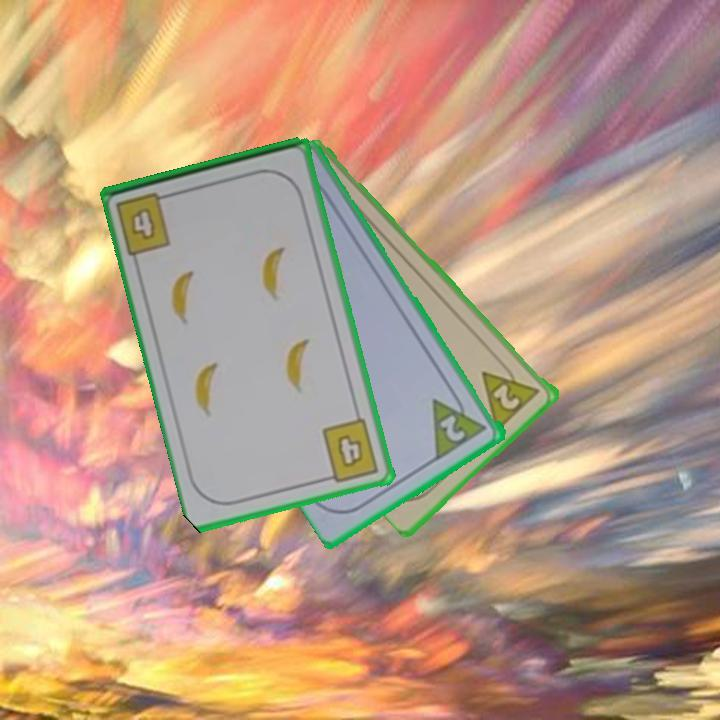2p: (478, 354, 544, 433), (428, 385, 491, 462)
4b: (112, 188, 177, 258), (319, 415, 382, 485)
